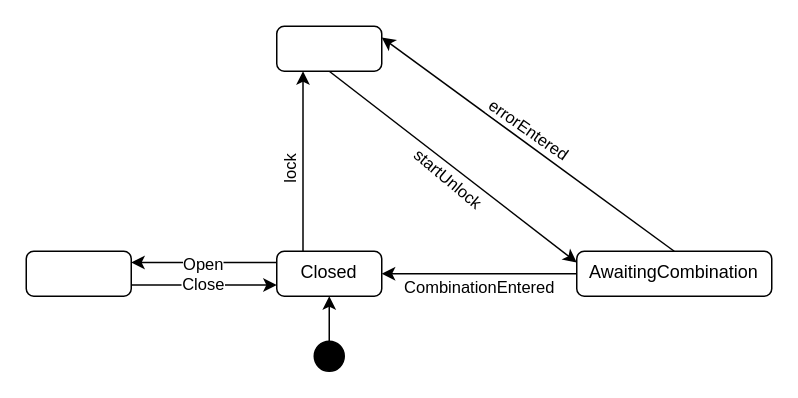
Some shapes in this 798 by 398 pixel diagram are drawn without their labels. Each missing label, with the centre of its shape:
"Locked" belongs at (328,48).
"Opened" belongs at (78,273).
